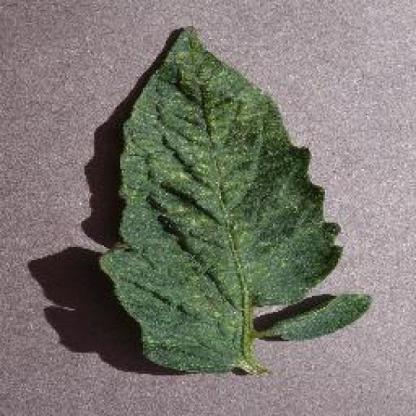Tomato_Spider_Mites: (100, 26, 370, 374)
